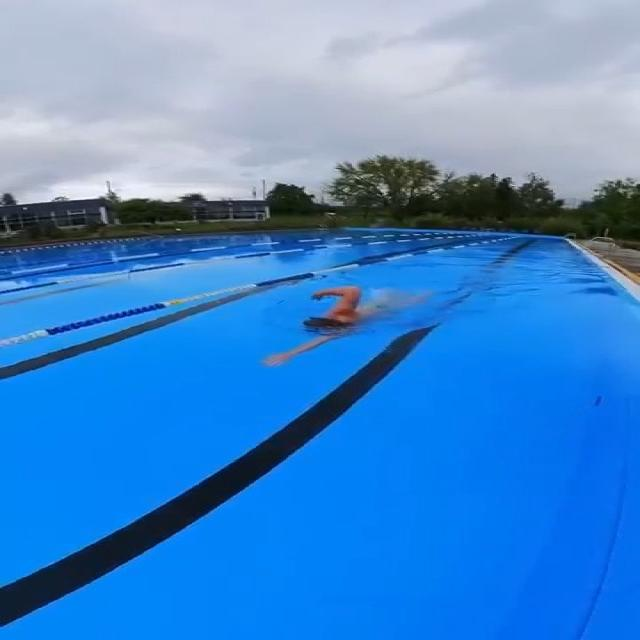Swimming: (257, 281, 431, 370)
